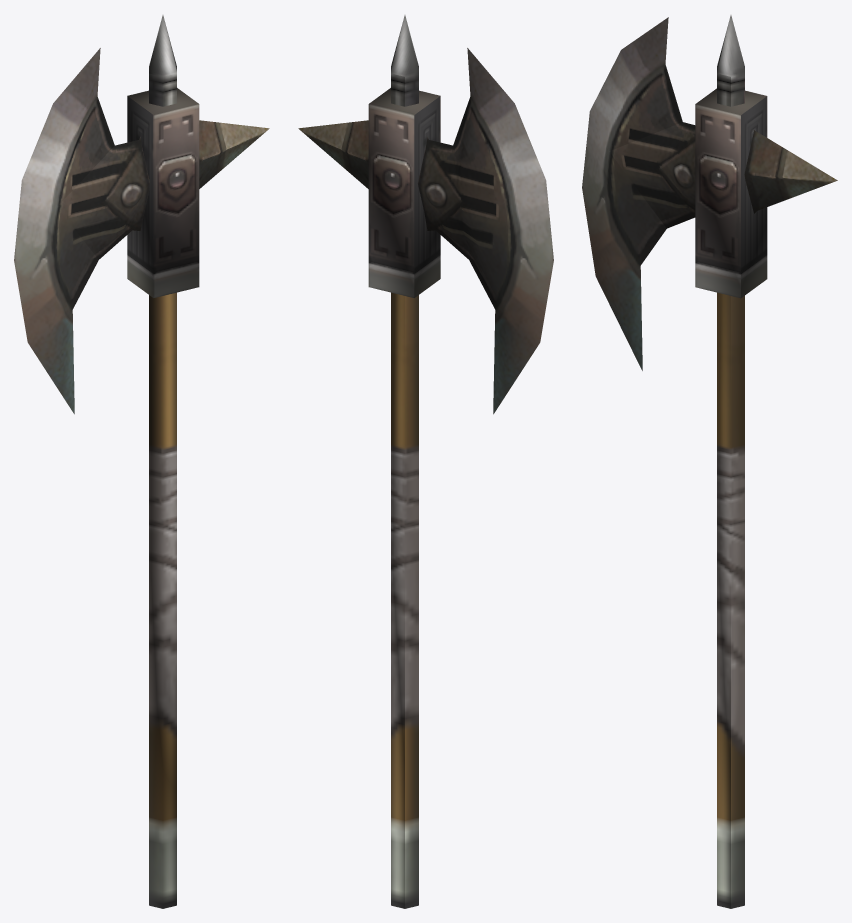
Rendered from Player02_1_wuqi.FBX.
3 renders of one model, left to right at view 1: azimuth 30°, elevation 25°; view 2: azimuth 150°, elevation 25°; view 3: azimuth 330°, elevation 25°, orthographic.
Visible parts, largest first — view 1: Mesh; view 2: Mesh; view 3: Mesh.
Part boxes in pixels (x1,y1,x2,y2): Mesh: (14,15,269,908); Mesh: (298,15,553,908); Mesh: (582,15,837,908).
Size of the model in its own units: 77.41 by 257 by 13.81.
Materials: 1 (1 with a texture image).
